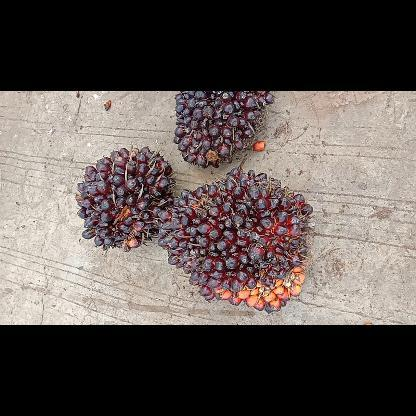TBS mentah: (156, 166, 316, 314), (73, 145, 177, 251), (170, 90, 278, 172)
